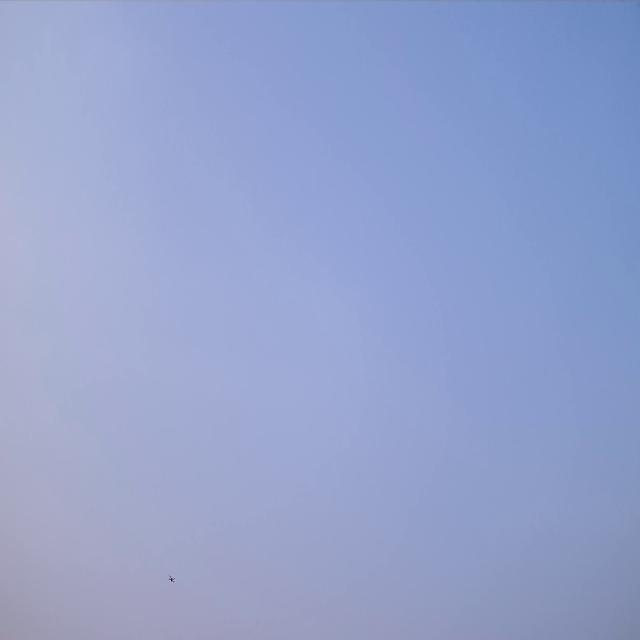UAV: (168, 574, 175, 584)
